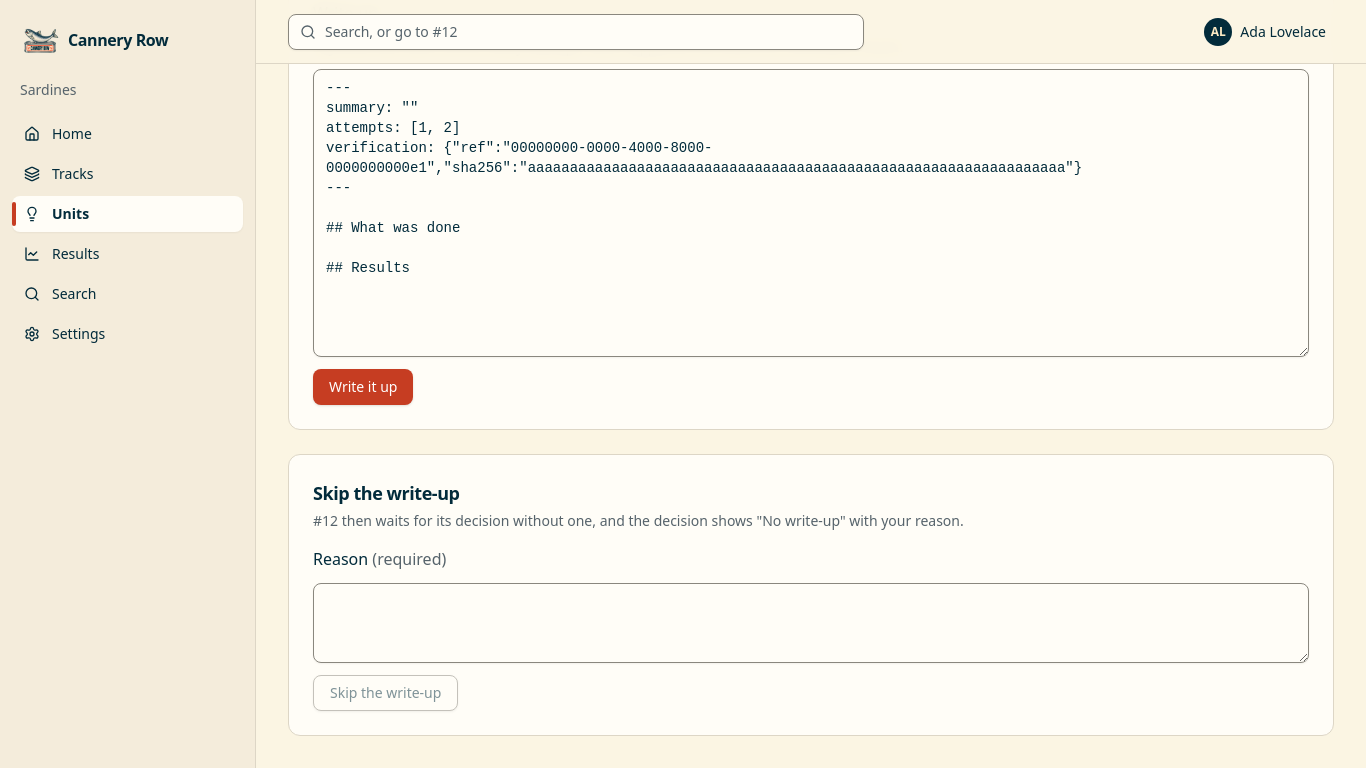
it: writing a unit up › skips the write-up only with a reason
(page scrolled)
Check: the button "Skip the write-up" is disabled, box left=313, top=675, right=458, bottom=711
Type "Nothing to add" into the text box labelled "Reason (required)" at (811, 623), box left=313, top=583, right=1309, bottom=663
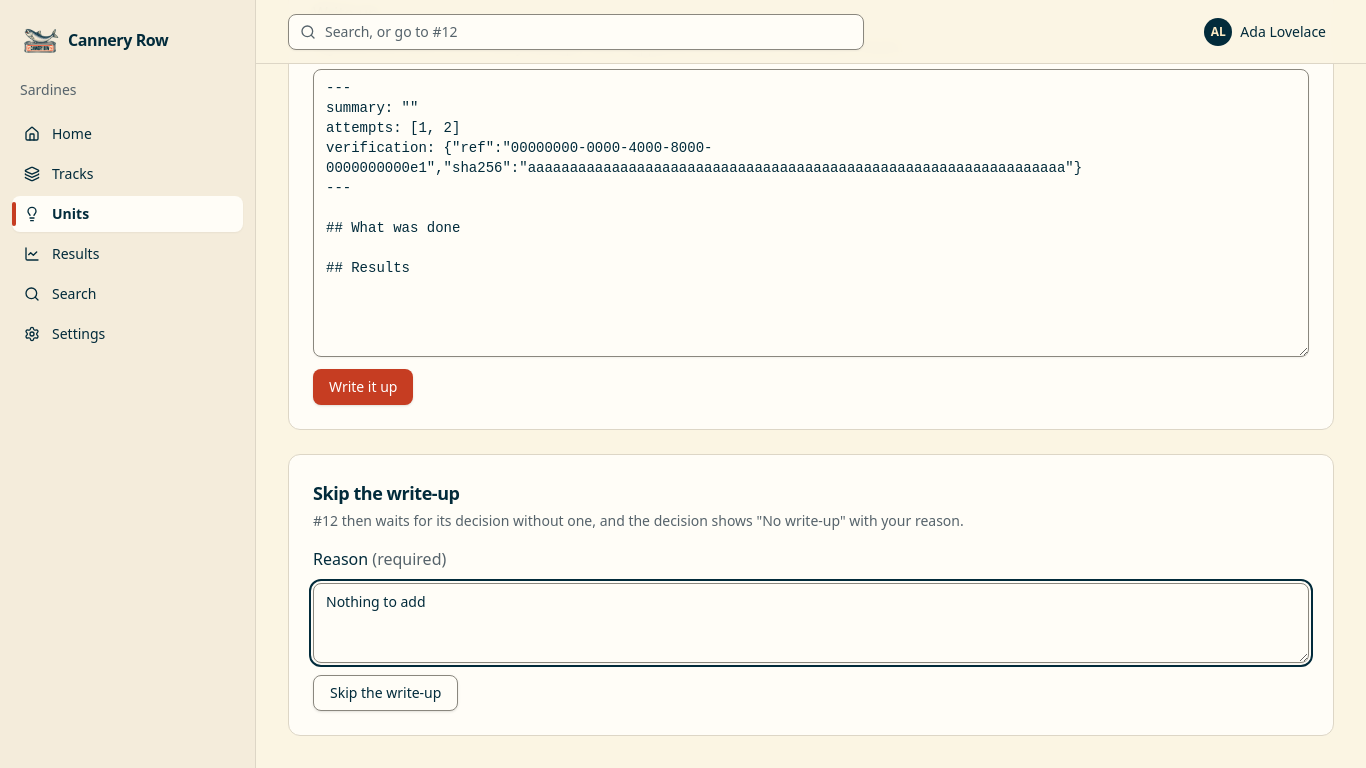
Click the button "Skip the write-up" at (386, 693), box left=313, top=675, right=458, bottom=711
(page scrolled)
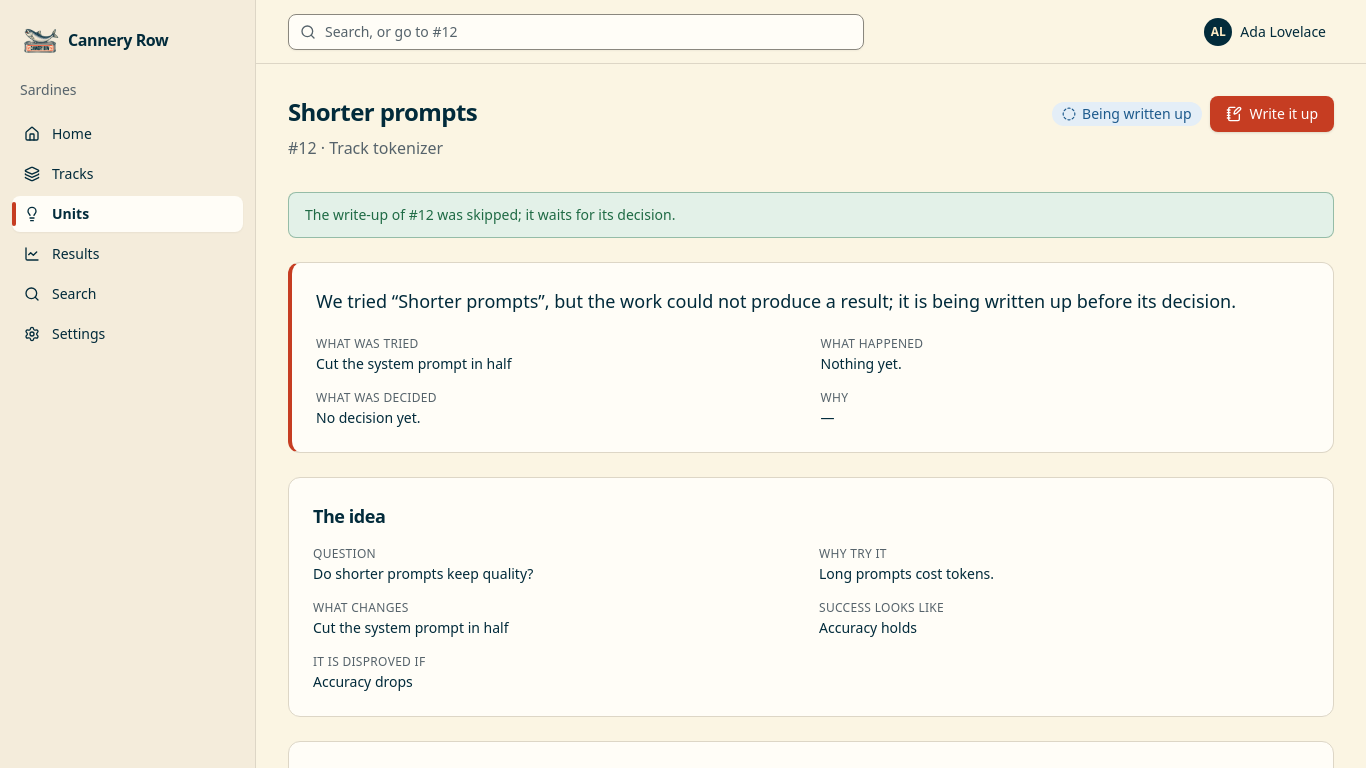
Check: the text "The write-up of #12 was skipped; it waits for its decision." is shown, box left=288, top=192, right=1334, bottom=238
